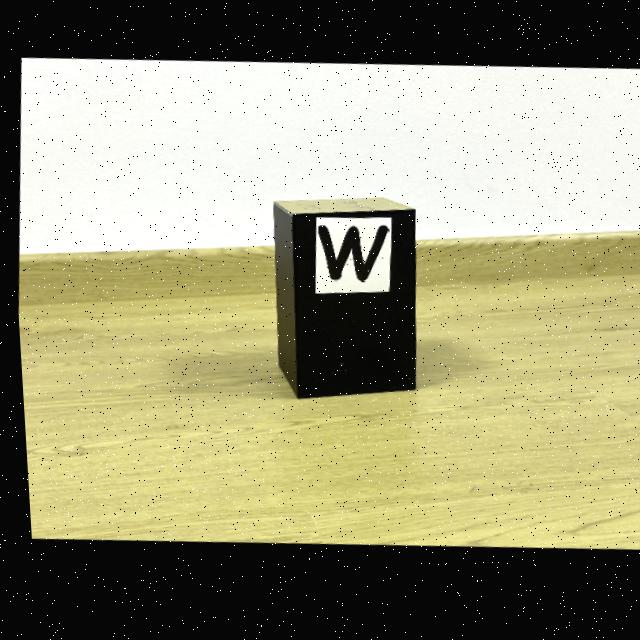W: (315, 229, 385, 285)
